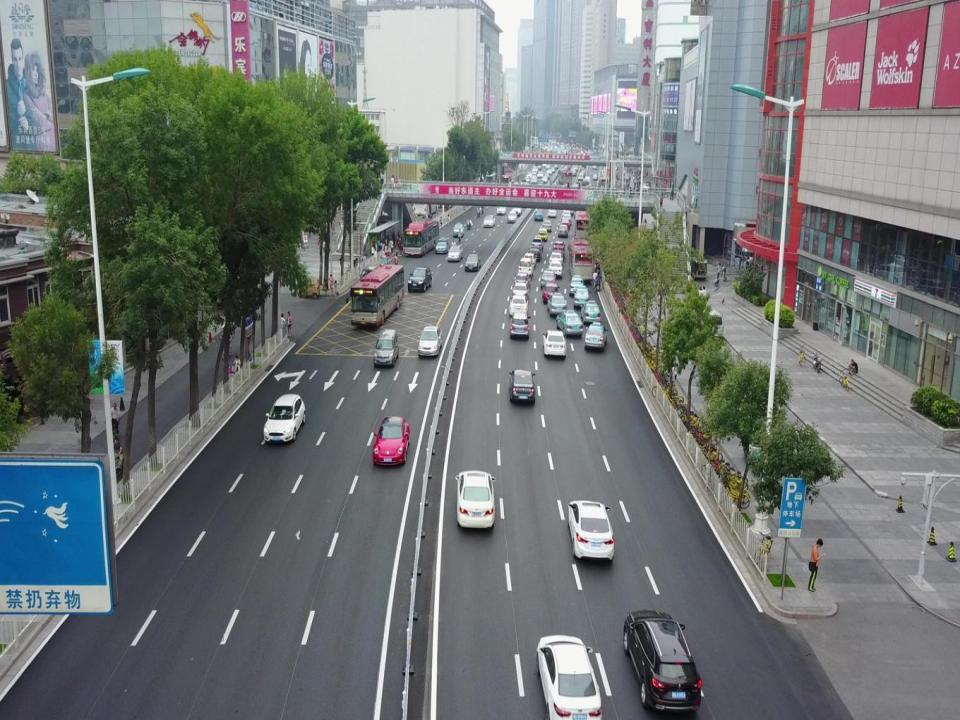bus: (351, 264, 405, 324), (404, 218, 440, 255), (568, 238, 594, 281), (685, 252, 708, 280), (573, 209, 592, 240)
car: (623, 609, 702, 713), (536, 633, 600, 720), (567, 500, 614, 562), (458, 470, 496, 530), (263, 395, 305, 442), (372, 416, 409, 464), (509, 368, 536, 404), (374, 329, 399, 366), (418, 324, 442, 357), (556, 312, 583, 336), (543, 330, 566, 358), (407, 267, 432, 292), (586, 322, 606, 348), (510, 310, 528, 338), (580, 301, 602, 322), (547, 293, 568, 314), (508, 296, 528, 314), (572, 287, 590, 307), (518, 257, 534, 278), (569, 274, 585, 294), (106, 458, 126, 474), (512, 284, 531, 300), (465, 253, 481, 272), (541, 266, 556, 286), (543, 283, 559, 301), (548, 258, 562, 277), (448, 246, 463, 262), (528, 244, 542, 260), (522, 252, 536, 268), (435, 238, 449, 253), (515, 273, 530, 286), (551, 244, 565, 256), (549, 252, 563, 264), (531, 238, 544, 250), (495, 202, 507, 215), (453, 222, 465, 235), (537, 227, 548, 241), (484, 214, 495, 227), (558, 223, 568, 237), (560, 216, 570, 229), (507, 210, 518, 221), (511, 206, 522, 216), (546, 208, 557, 217), (542, 220, 551, 231), (560, 215, 572, 223), (553, 240, 565, 248), (534, 209, 543, 219), (584, 175, 591, 182), (570, 168, 577, 175), (537, 178, 544, 185), (525, 170, 532, 177), (592, 172, 598, 180), (562, 209, 570, 215), (537, 171, 543, 178), (582, 178, 588, 185), (573, 164, 579, 171), (542, 176, 548, 183), (524, 175, 529, 183), (578, 174, 584, 180), (531, 177, 537, 183), (531, 166, 538, 171), (547, 169, 552, 175), (544, 173, 549, 179), (579, 170, 584, 175), (592, 164, 596, 169), (554, 164, 558, 169), (546, 164, 550, 169)
van: (696, 304, 724, 339)
